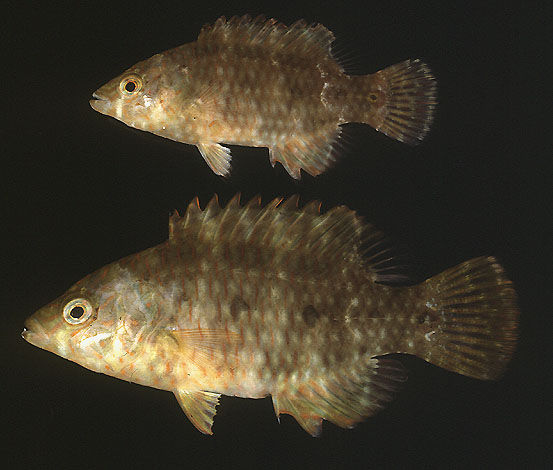fish: (21, 191, 521, 438), (92, 16, 438, 180)
